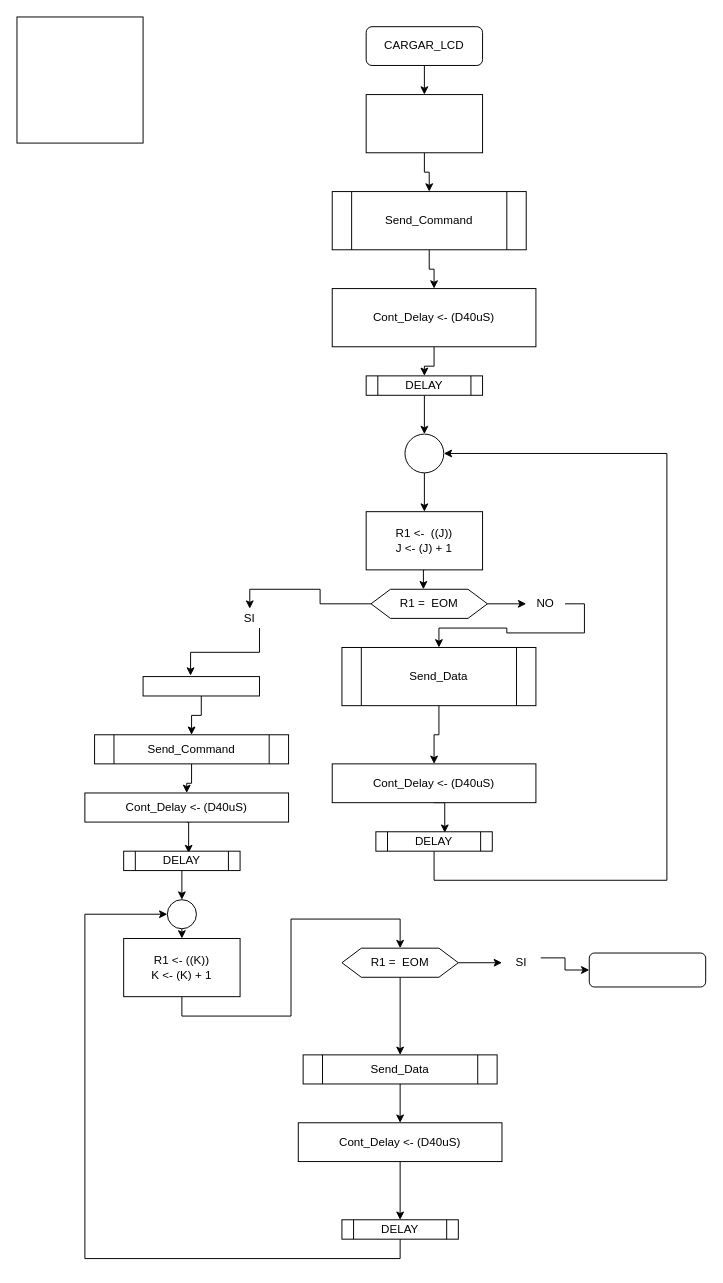
This 723x1283 diagram has some shape labels left out. Each missing label, with the centre of its shape:
C - carry K. - Y J - X R1 - A R2 - B RR1 - D: [79,79]
R1 <- ADD_L1: [424,123]
R1 <- ADD_L2: [200,686]
RETURN: [647,969]
